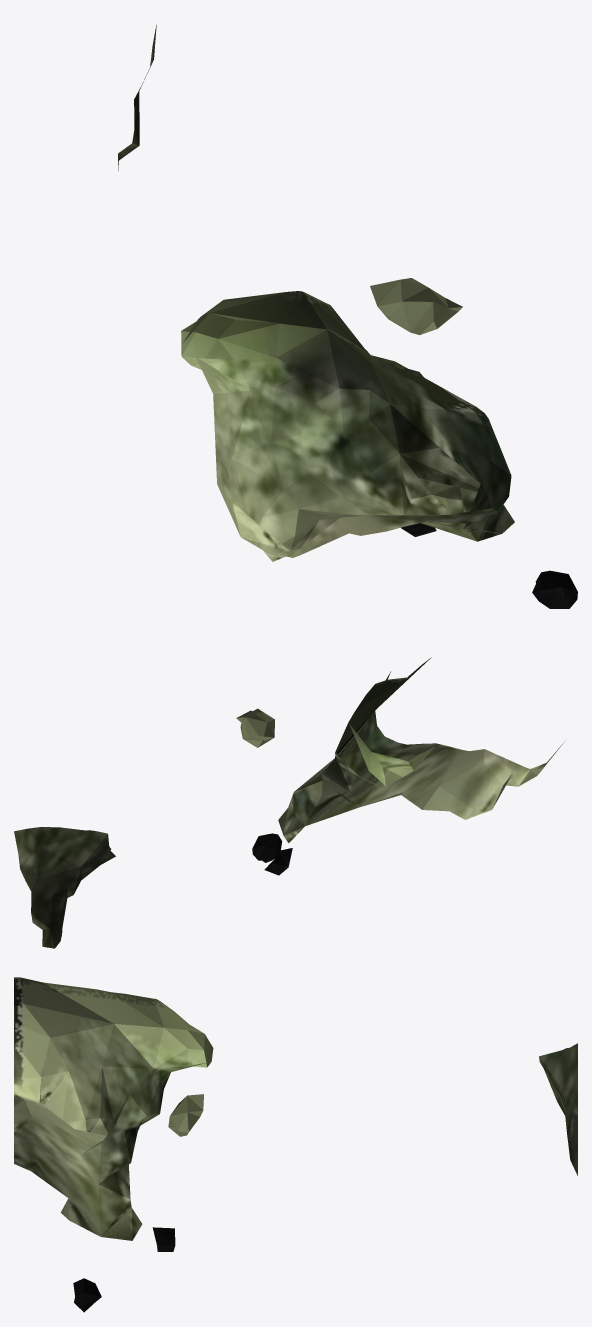
The picture shows the model from 3 angles, top to bottom: view 1: azimuth 30°, elevation 25°; view 2: azimuth 150°, elevation 25°; view 3: azimuth 270°, elevation 25°; orthographic projection. The views are drawn at different scales.
Bounding box in the file's own units: 3.21 × 2.46 × 5.9.
Materials: 1 (1 with a texture image).
